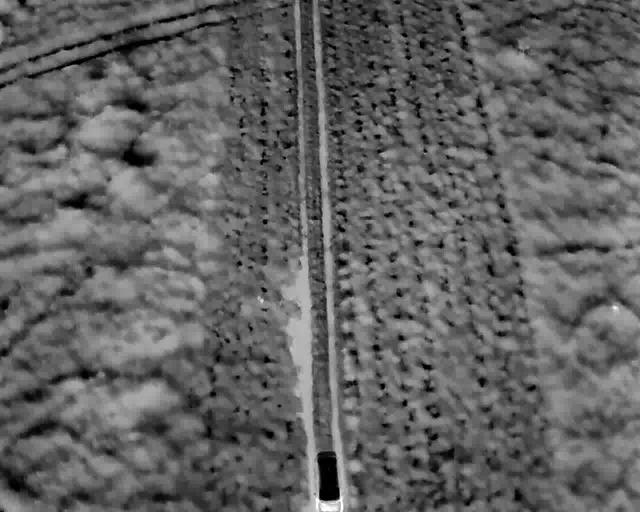car: (309, 449, 345, 511)
